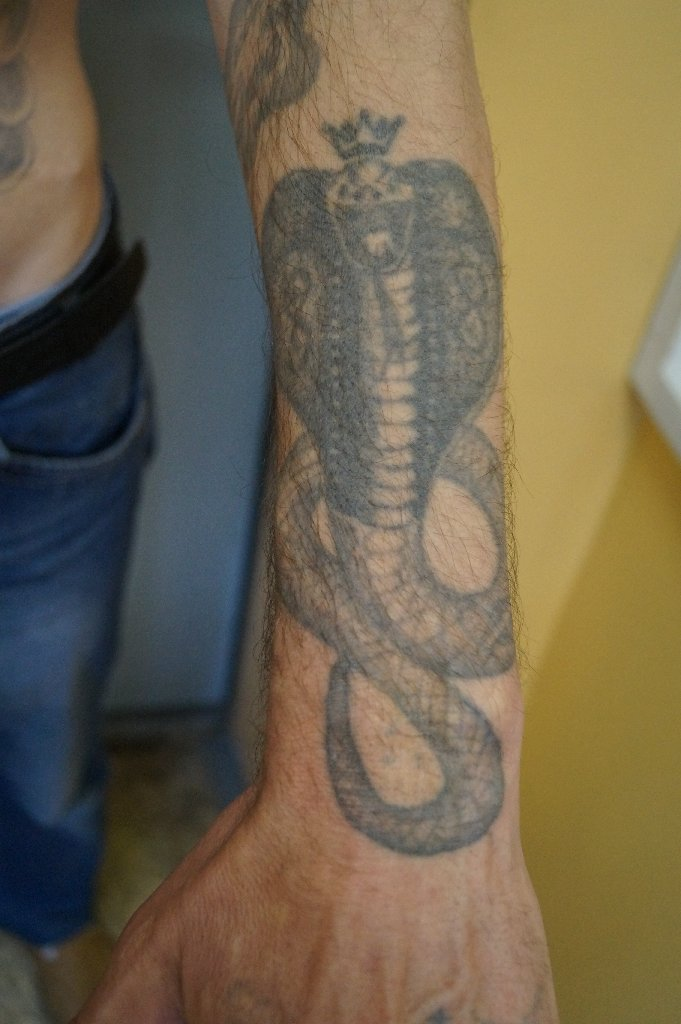tatu7_zmeya: (231, 78, 593, 944)
